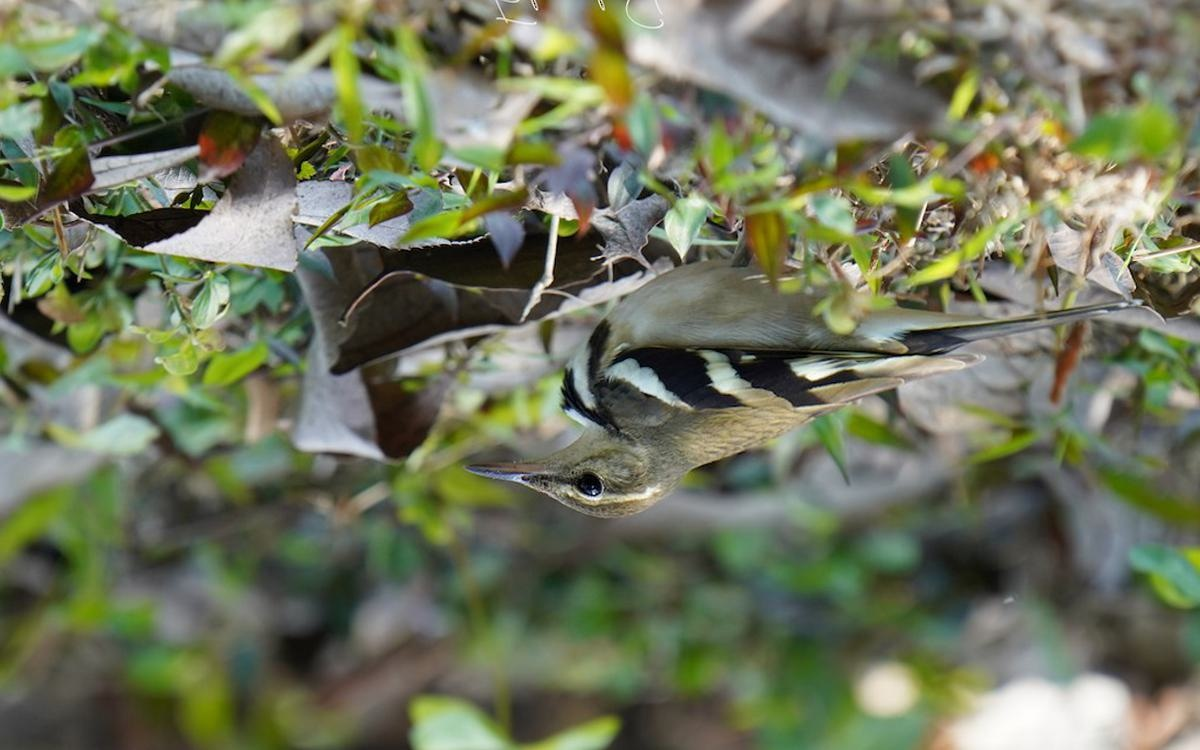wagtail: (493, 272, 1070, 537)
